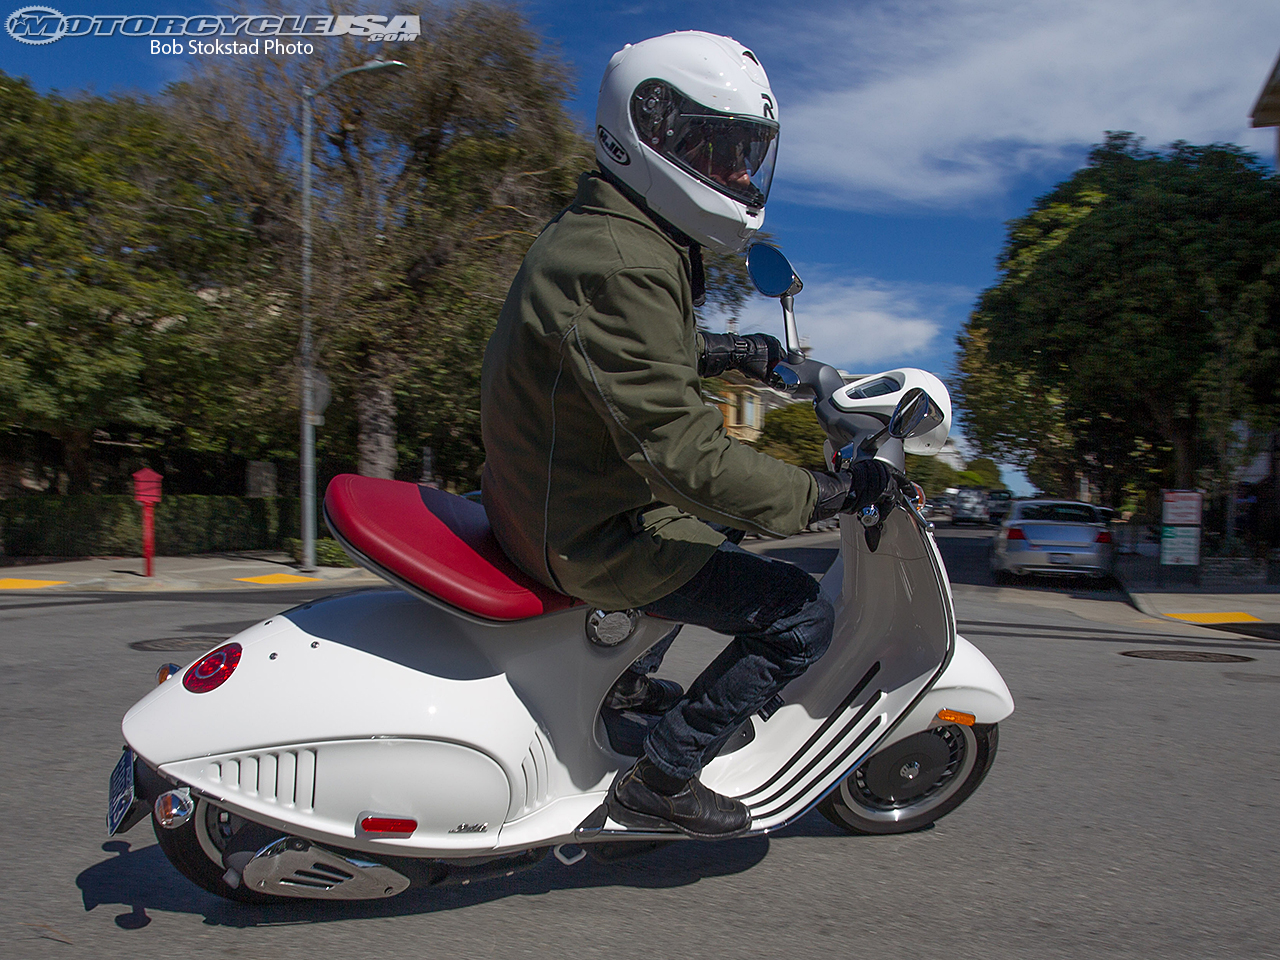with_helmet: (585, 31, 791, 248)
